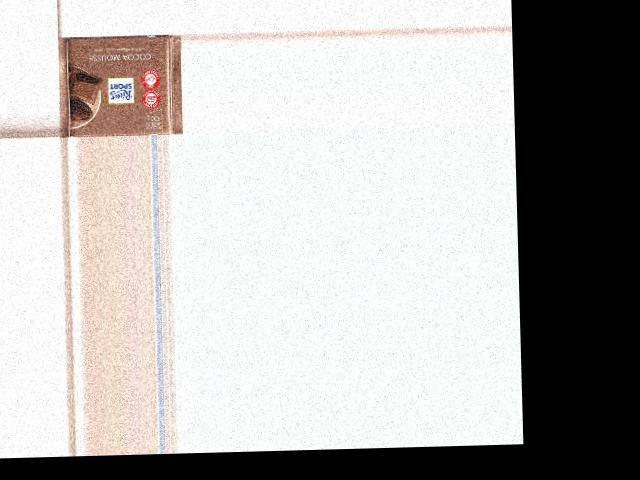chocolate: (57, 33, 181, 137)
